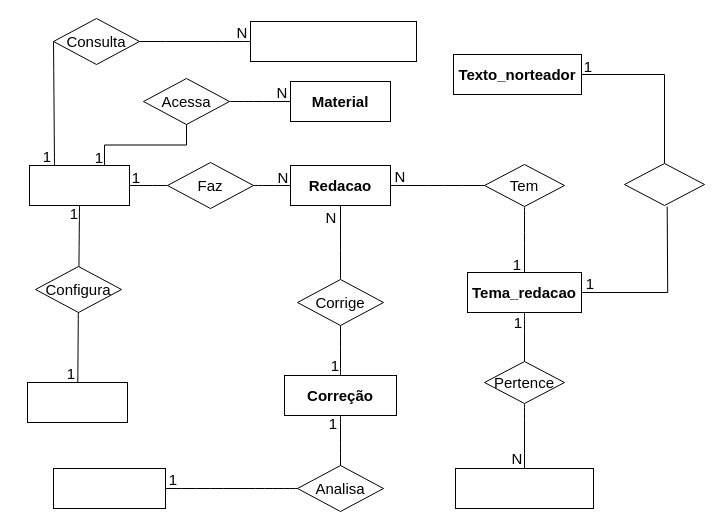
Some shapes in this 722 by 529 pixel diagram are drawn without their labels. The centre of each missing label's shape, as x and y in pixels:
"Chatbot_Menssagem" goes at (333,41).
"Configuracao" goes at (77,402).
"Exibe" goes at (664,184).
"Feedback" goes at (109,488).
"Modelo_Redacao" goes at (524,488).
"Usuario" goes at (79,185).
